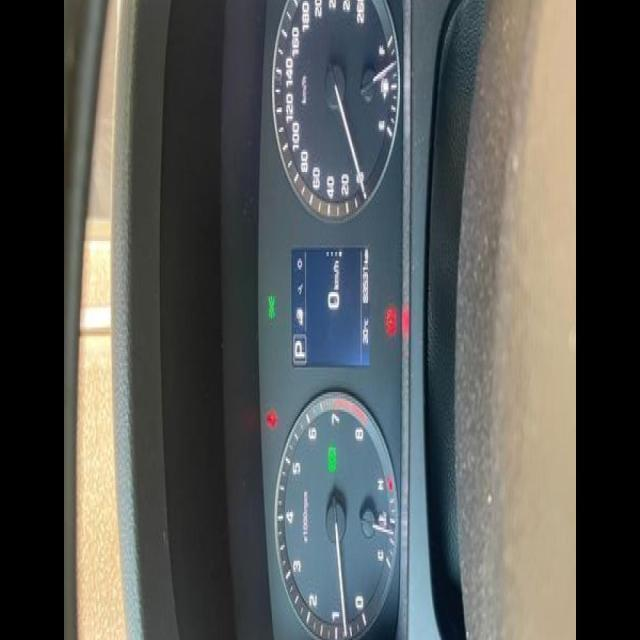Seat Belt: (266, 409, 278, 428)
